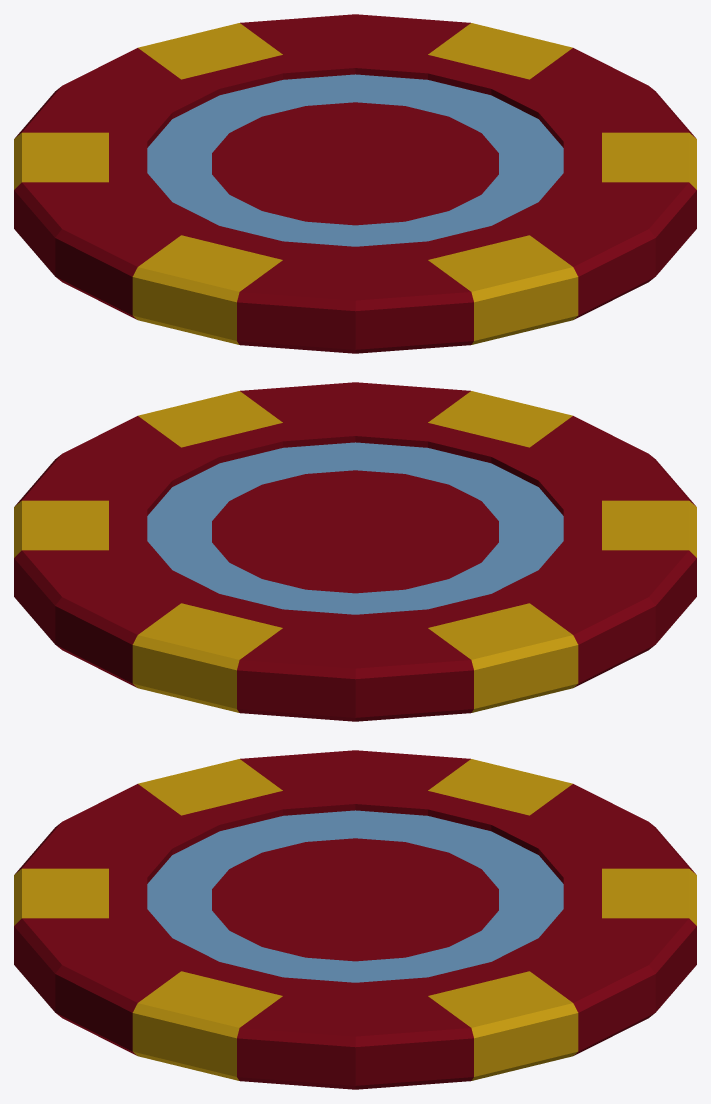
The model's file is casino-chip-c0e3b6.glb.
3 renders of one model, top to bottom at view 1: azimuth 30°, elevation 25°; view 2: azimuth 150°, elevation 25°; view 3: azimuth 270°, elevation 25°, orthographic.
Visible parts, largest first — view 1: casino-chip; view 2: casino-chip; view 3: casino-chip.
Part boxes in pixels (bbox=[...]): casino-chip: bbox=[14, 14, 696, 353]; casino-chip: bbox=[14, 382, 696, 721]; casino-chip: bbox=[14, 750, 696, 1089].
Size of the model in its own units: 0.039 by 0.0033 by 0.0384.
